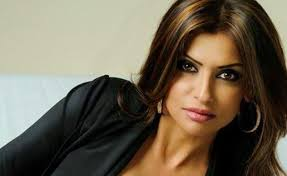middle_eastern_Female: (161, 15, 256, 134)
